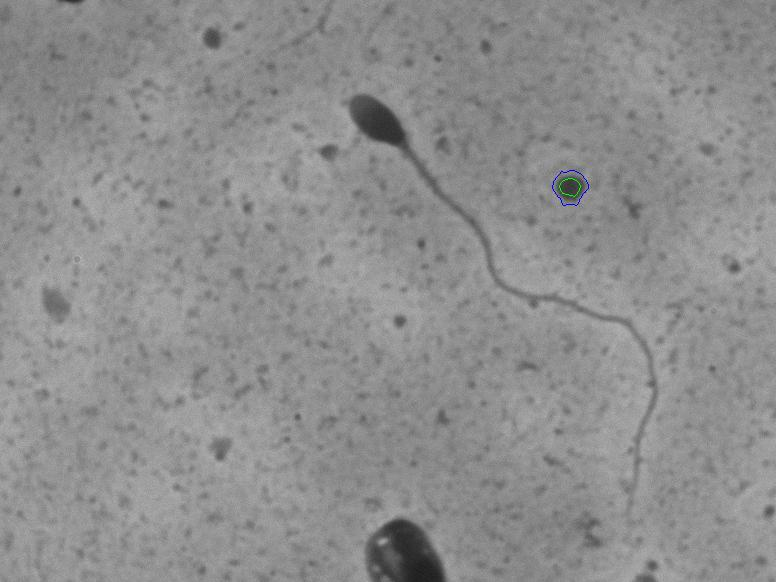Normal: (323, 79, 674, 537)
